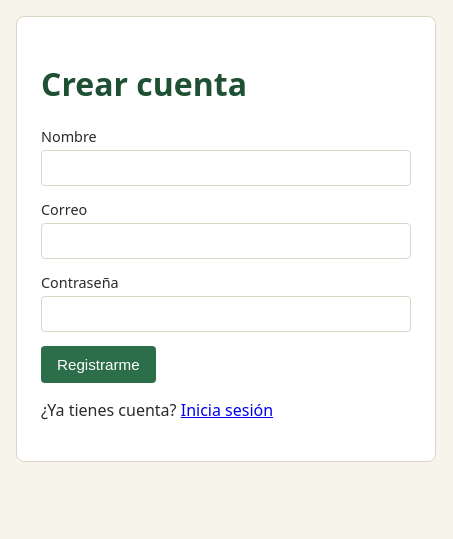
Página de registro (US1) › envía el formulario y muestra el mensaje de éxito
Step 1. Type "Ana Pérez" into the field labelled "Nombre" → (226, 168), box top-left (41, 150), bottom-right (411, 186)
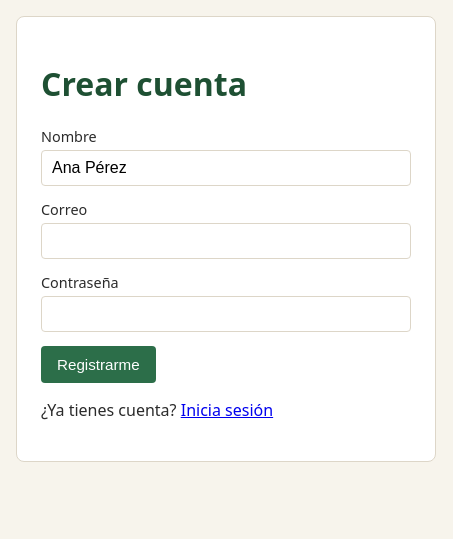
Step 2. Type "ana@example.com" into the field labelled "Correo" → (226, 241), box top-left (41, 223), bottom-right (411, 259)
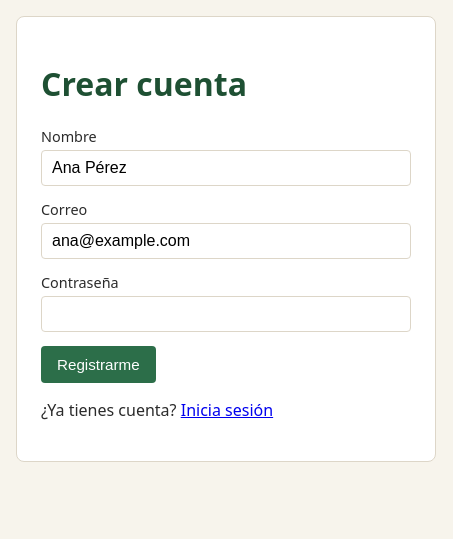
Step 3. Type "clave-secreta-123" into the password field labelled "Contraseña" → (226, 314), box top-left (41, 296), bottom-right (411, 332)
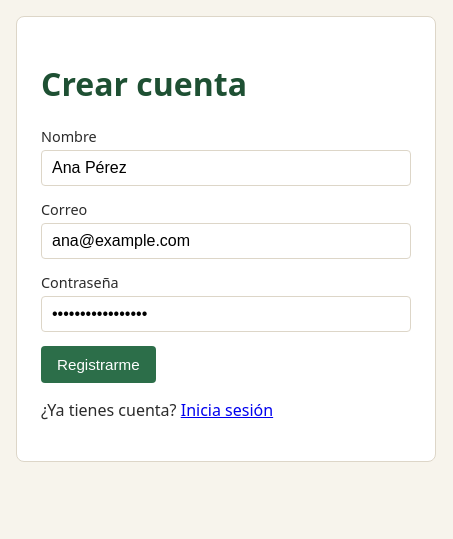
Step 4. Click the button "Registrarme" → (98, 364), box top-left (41, 346), bottom-right (156, 383)
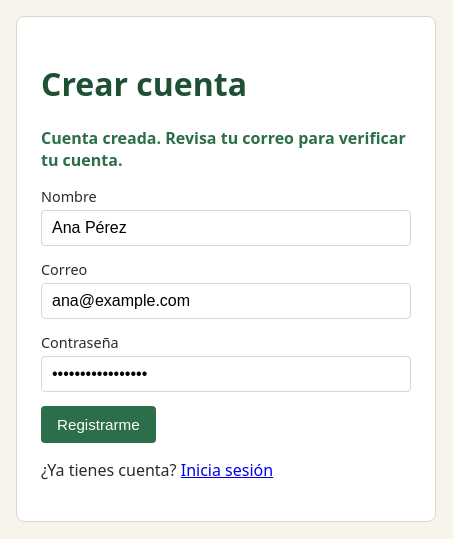
Expected: the text "Cuenta creada. Revisa tu correo para verificar tu cuenta." is shown, top-left (41, 127), bottom-right (411, 171)
